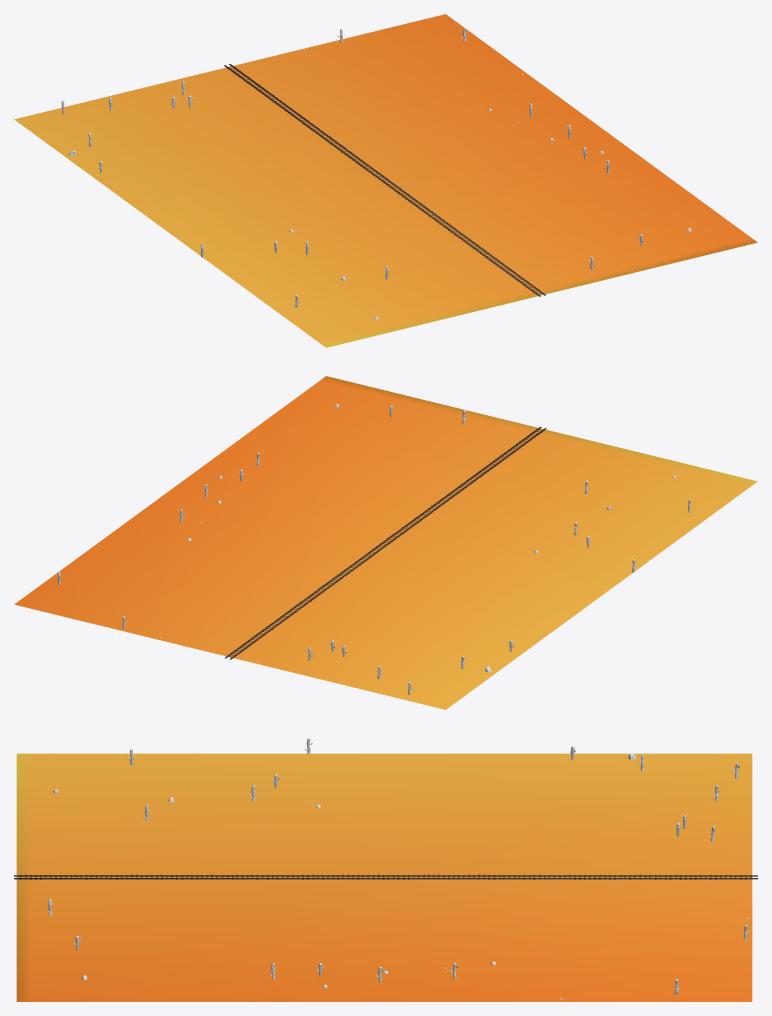
Rendered from Lvl_Version_05.fbx.
3 views of the same model, one above another, from view 1: azimuth 30°, elevation 25°; view 2: azimuth 150°, elevation 25°; view 3: azimuth 270°, elevation 25° (orthographic). The views are drawn at different scales.
Parts seen in each view (by area): view 1: Level_06; view 2: Level_06; view 3: Level_06.
Boxes of the visible parts, box(x1,y1,x2,y2) form: Level_06: box(14, 14, 757, 347); Level_06: box(14, 376, 757, 709); Level_06: box(14, 738, 757, 1001).
Bounding box in the file's own units: 16055 × 467 × 20276.
